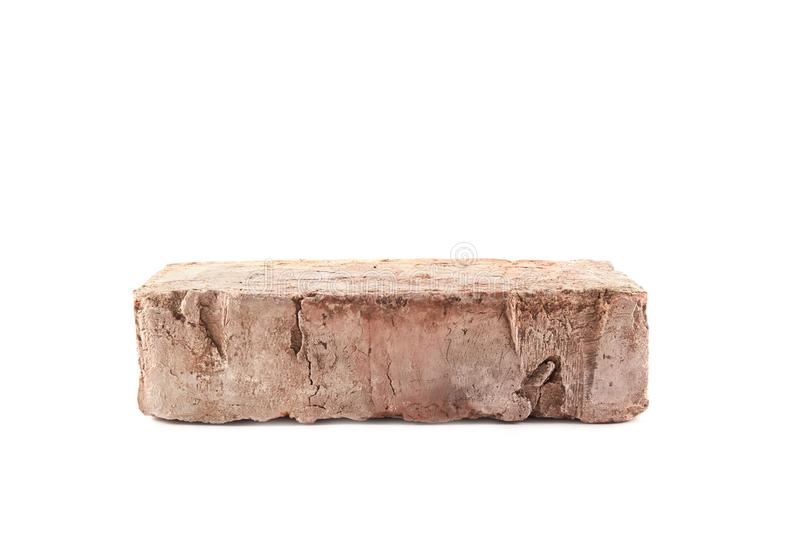brick: (136, 285, 647, 419)
